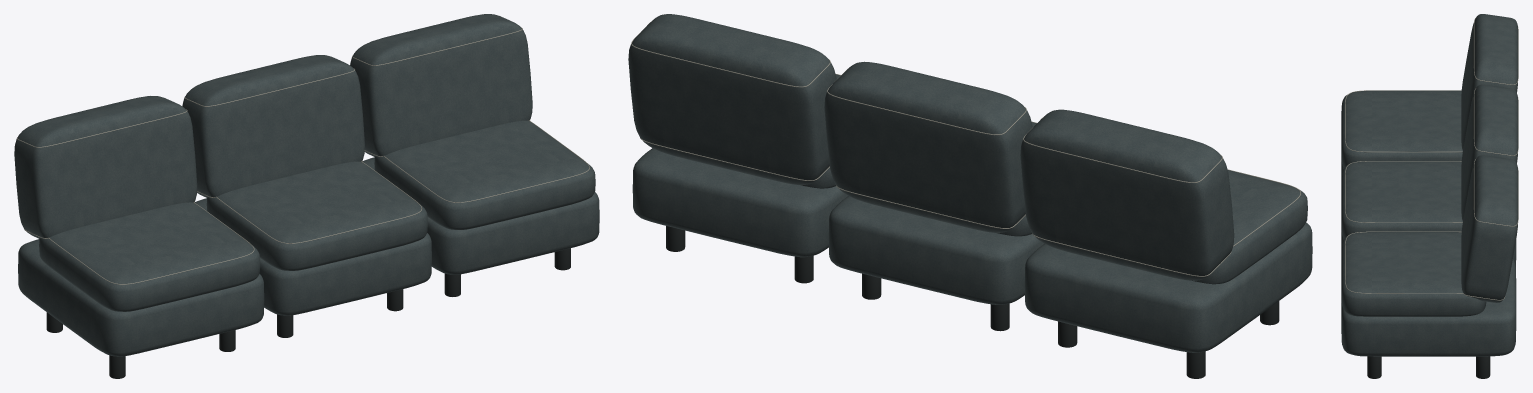
Rendered from sofa.glb.
3 views of the same model, side by side, from view 1: azimuth 30°, elevation 25°; view 2: azimuth 150°, elevation 25°; view 3: azimuth 270°, elevation 25° (orthographic). The views are drawn at different scales.
Visible parts, largest first — view 1: Removable wedge back, Removable wedge back.002, Removable wedge back.001, Independent armless section | seat, Independent armless section | seat.002, Independent armless section | seat.001, Independent armless section | deck, Independent armless section | deck.002, Independent armless section | deck.001; view 2: Removable wedge back, Removable wedge back.002, Removable wedge back.001, Independent armless section | deck, Independent armless section | deck.001, Independent armless section | deck.002, Independent armless section | seat; view 3: Independent armless section | seat.002, Independent armless section | seat.001, Independent armless section | seat, Independent armless section | deck.002, Removable wedge back.002, Removable wedge back.001, Removable wedge back, Independent armless section | seat | upper tailored welt, Independent armless section | inset foot.010, Independent armless section | inset foot.011, Independent armless section | seat | upper tailored welt.002, Independent armless section | seat | upper tailored welt.001 (+3 smaller).
Boxes of the visible parts, x1,y1,x2,y2 form: Removable wedge back: (14, 96, 197, 238); Removable wedge back.002: (350, 14, 532, 156); Removable wedge back.001: (182, 55, 364, 197); Independent armless section | seat: (39, 202, 260, 311); Independent armless section | seat.002: (374, 120, 595, 229); Independent armless section | seat.001: (206, 161, 427, 270); Independent armless section | deck: (18, 239, 264, 356); Independent armless section | deck.002: (362, 157, 599, 274); Independent armless section | deck.001: (195, 198, 431, 315); Removable wedge back: (1020, 109, 1234, 280); Removable wedge back.002: (628, 14, 836, 185); Removable wedge back.001: (824, 61, 1032, 232); Independent armless section | deck: (1024, 222, 1312, 352); Independent armless section | deck.001: (828, 196, 1044, 304); Independent armless section | deck.002: (632, 148, 848, 257); Independent armless section | seat: (1192, 170, 1307, 284); Independent armless section | seat.002: (1341, 232, 1486, 316); Independent armless section | seat.001: (1341, 161, 1462, 238); Independent armless section | seat: (1341, 90, 1462, 167); Independent armless section | deck.002: (1341, 259, 1516, 356); Removable wedge back.002: (1461, 155, 1518, 302); Removable wedge back.001: (1461, 84, 1518, 220); Removable wedge back: (1461, 14, 1518, 150); Independent armless section | seat | upper tailored welt: (1345, 90, 1462, 152); Independent armless section | inset foot.010: (1367, 356, 1381, 378); Independent armless section | inset foot.011: (1476, 356, 1490, 378); Independent armless section | seat | upper tailored welt.002: (1345, 231, 1463, 293); Independent armless section | seat | upper tailored welt.001: (1345, 161, 1462, 222).
Size of the model in its own units: 2.52 by 0.9696 by 0.9021.
Materials: 4 (1 with a texture image).
